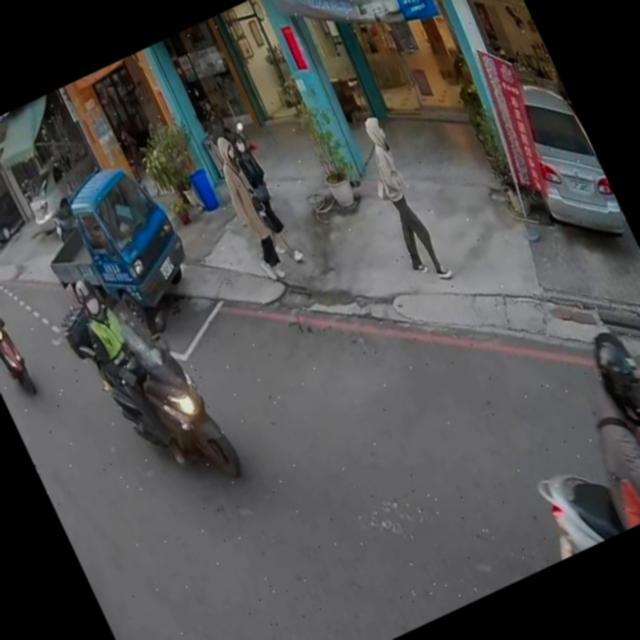person: (61, 248, 230, 480), (340, 102, 460, 294), (545, 316, 640, 530), (198, 121, 300, 292), (213, 116, 309, 274), (0, 276, 34, 388)
